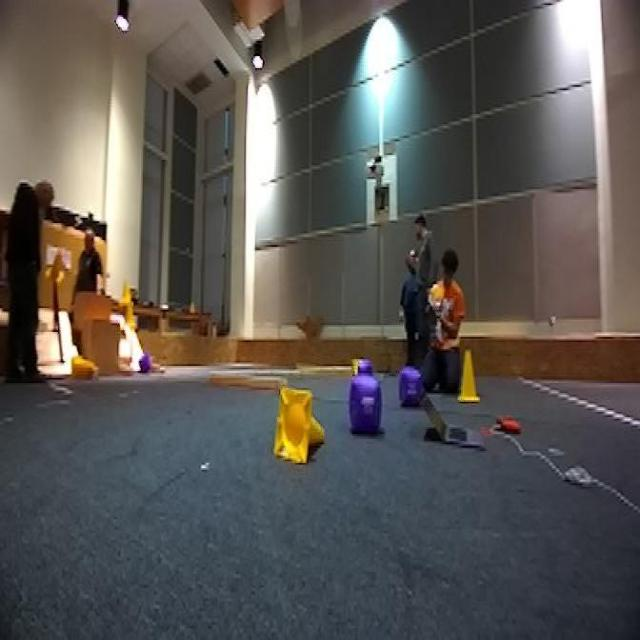frc_cone: (273, 388, 324, 472), (455, 349, 482, 403), (68, 352, 88, 382)
frc_cube: (348, 373, 383, 432), (397, 364, 425, 404), (136, 354, 154, 376), (356, 357, 372, 378)
